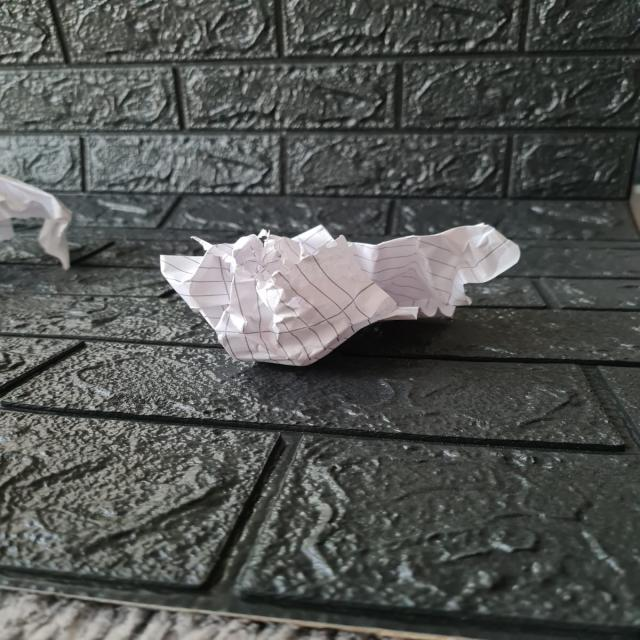Paper: (156, 220, 522, 364)
